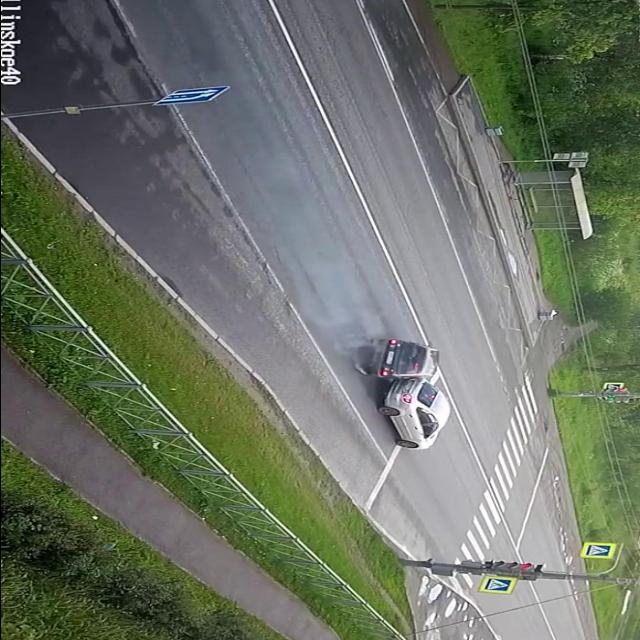accident: (332, 334, 456, 454)
